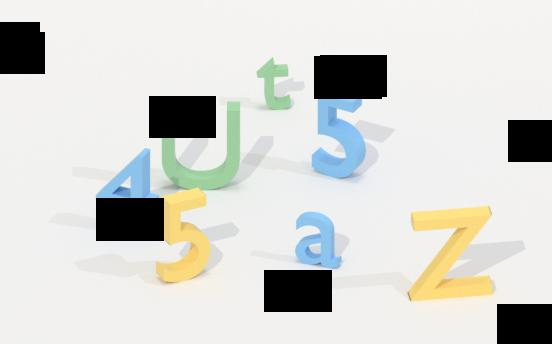4: (93, 145, 160, 243)
5: (152, 186, 213, 288), (309, 81, 369, 181)
a: (293, 209, 343, 274)
t: (255, 54, 295, 113)
u: (159, 98, 245, 191)
z: (405, 204, 496, 307)
